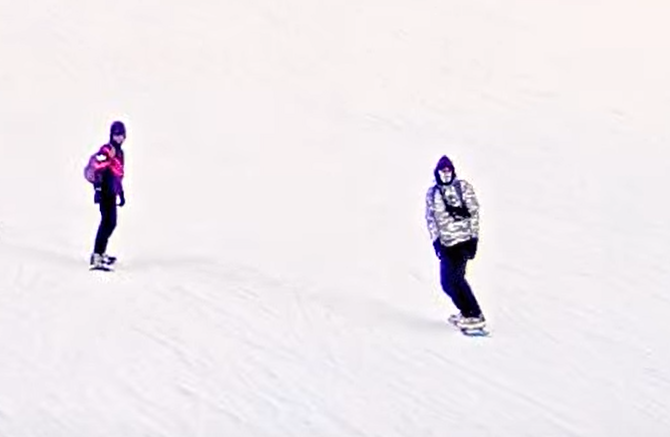snowboarder: (408, 144, 520, 343), (59, 107, 152, 286)
